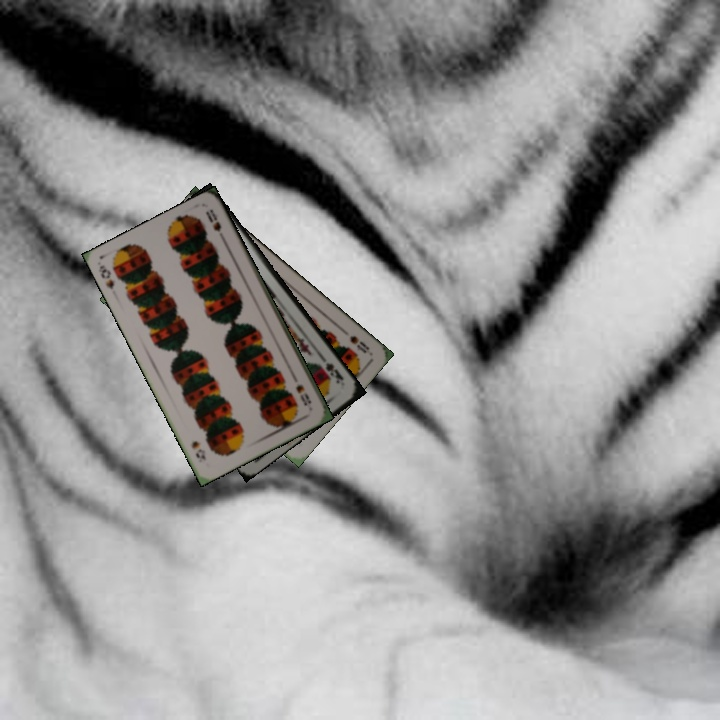S8: (94, 261, 118, 292), (345, 332, 372, 356), (292, 380, 314, 408)
SK: (314, 358, 346, 386)
